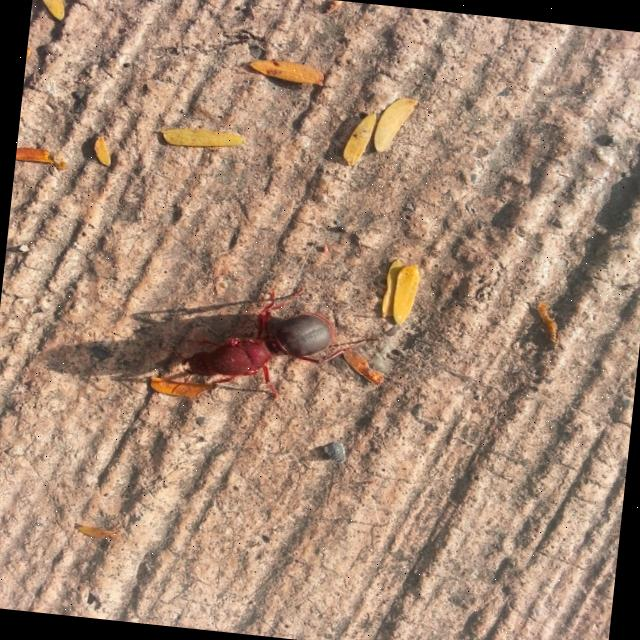Alive-Female-Dealate: (154, 276, 386, 414)
